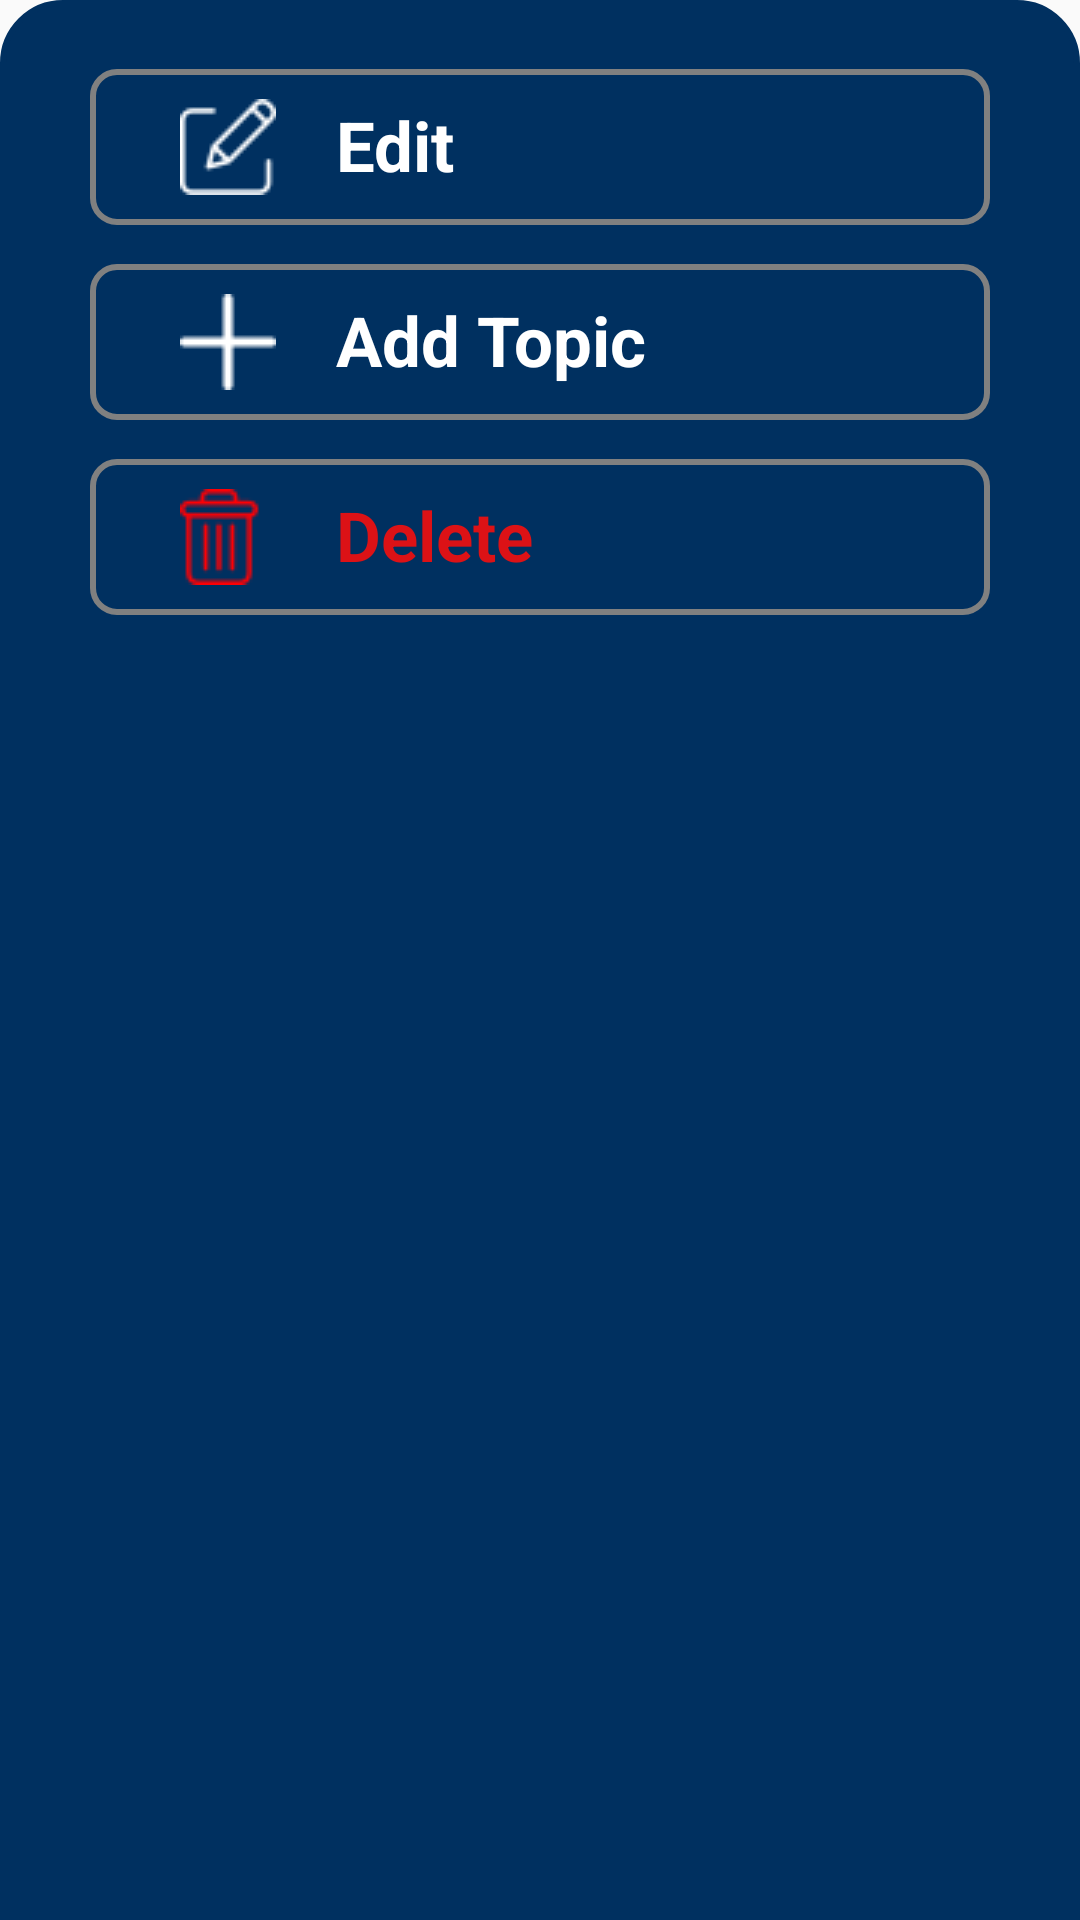

Icon bounding boxes for this 1080 x 1920 phone screenshot, format (x1,y1,x2,y2):
plus topic: (180,294,276,390)
